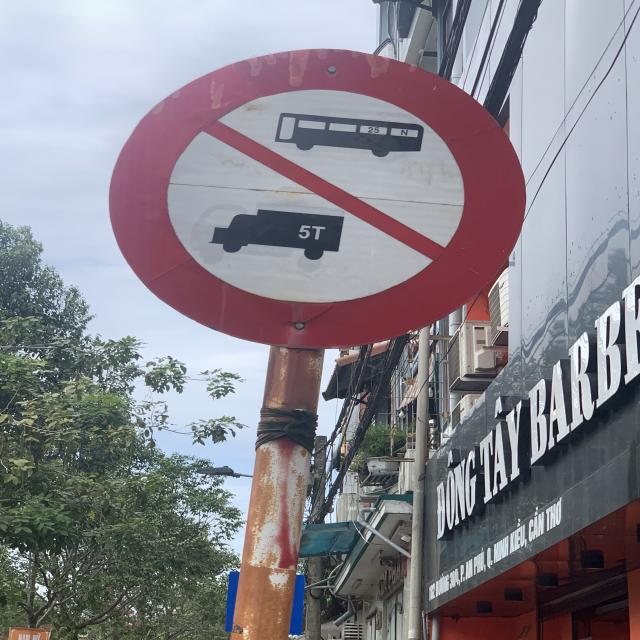Cam_XeTai_XeKhach: (105, 48, 532, 348)
